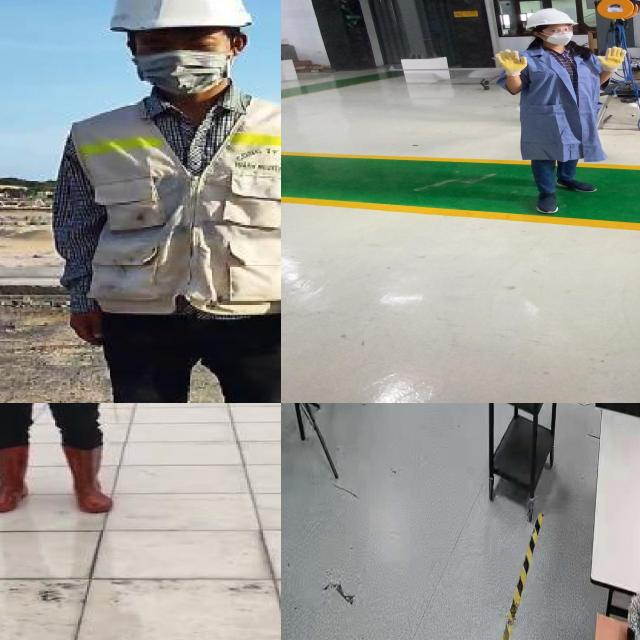boots: (64, 445, 117, 511), (0, 446, 32, 512)
face_mask: (540, 24, 574, 46)
face_nomask: (136, 52, 240, 108)
glasses: (539, 24, 577, 34)
hand_glove: (491, 48, 530, 74), (595, 45, 629, 69)
hand_noglove: (4, 319, 70, 387)
head_helmet: (115, 9, 274, 64), (523, 6, 575, 29)
person: (10, 6, 281, 403), (491, 4, 630, 221), (0, 403, 131, 523)
shoes: (529, 188, 563, 215), (552, 177, 598, 194)
